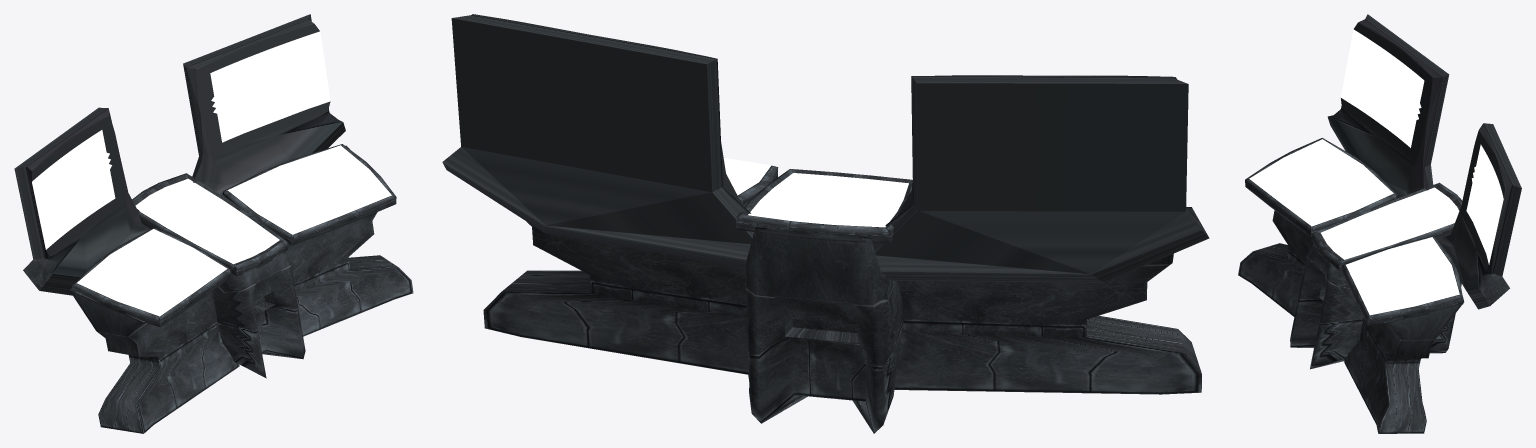
Rendered from lab_console.glb.
3 views of the same model, side by side, from view 1: azimuth 30°, elevation 25°; view 2: azimuth 150°, elevation 25°; view 3: azimuth 270°, elevation 25° (orthographic). The views are drawn at different scales.
Parts seen in each view (by area): view 1: lab_console; view 2: lab_console; view 3: lab_console.
Part boxes in pixels (x1,y1,x2,y2): lab_console: (14, 14, 413, 433); lab_console: (442, 14, 1209, 433); lab_console: (1238, 14, 1521, 433).
Size of the model in its own units: 1.35 by 0.7713 by 0.8315.
Materials: 3 (1 with a texture image).
